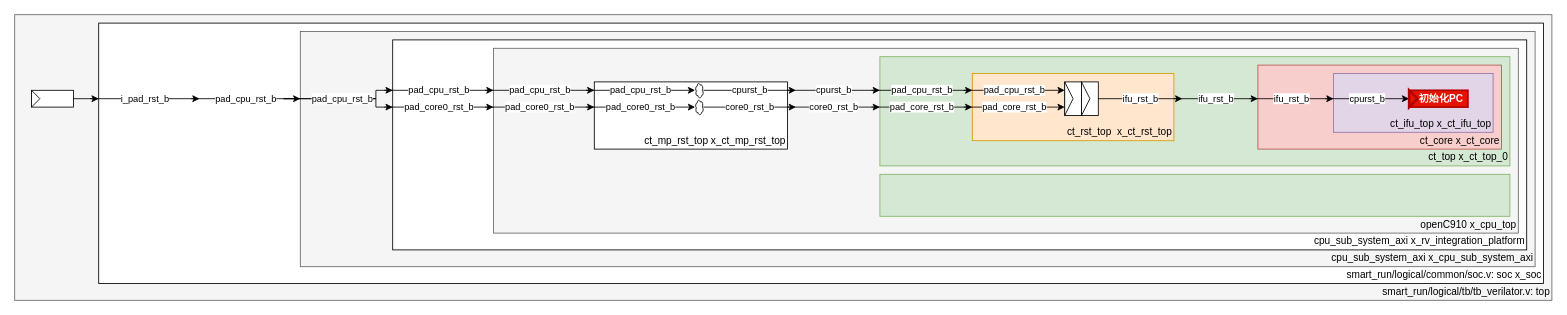
This 1567x315 diagram has some shape labels left out. Each missing label, with the centre of its shape:
ct_top x_ct_top_1: [1194,194]
rst_b: [52,98]
